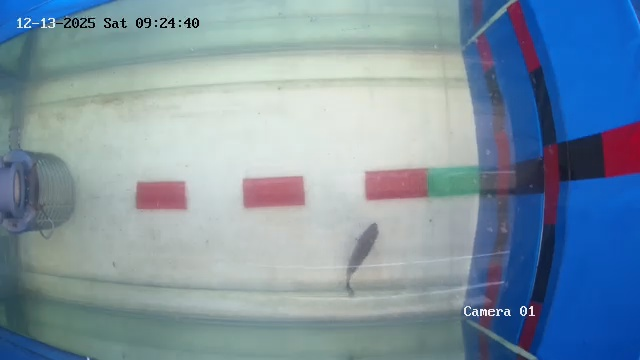fish: (341, 220, 381, 278)
